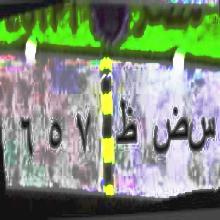5: (47, 113, 65, 160)
6: (19, 111, 36, 162)
7: (74, 102, 93, 162)
Thaa: (115, 92, 136, 158)
daad: (150, 102, 189, 165)
seen: (189, 102, 217, 160)
